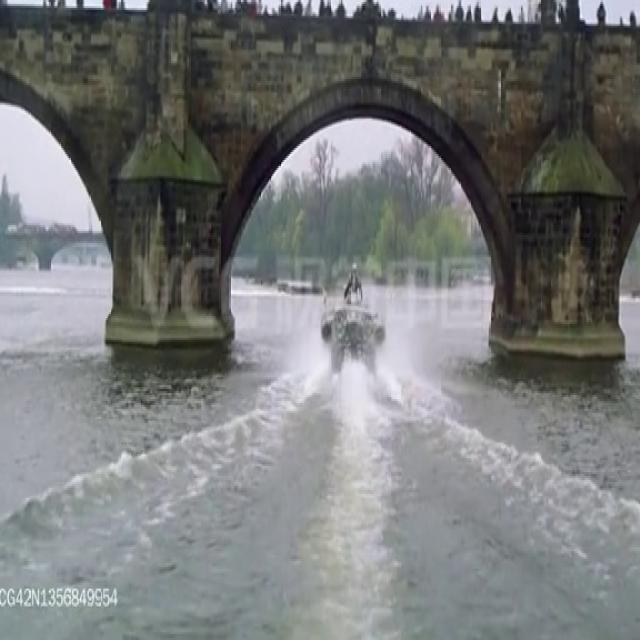houseboat: (318, 254, 392, 384)
